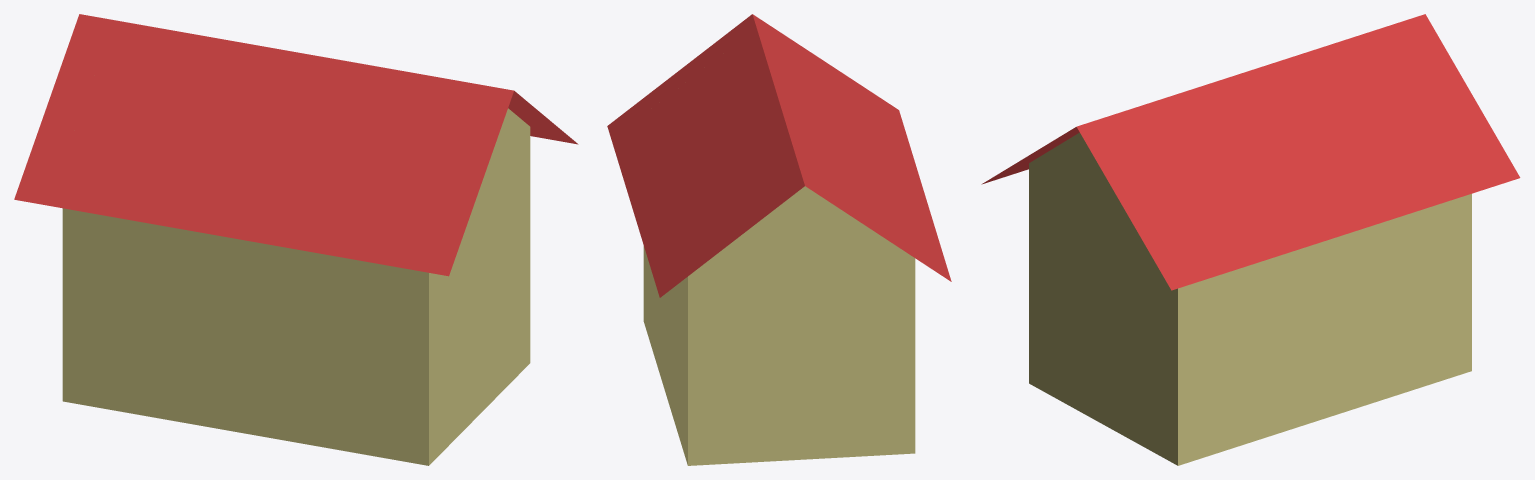
3 renders of one model, left to right at view 1: azimuth 30°, elevation 25°; view 2: azimuth 150°, elevation 25°; view 3: azimuth 270°, elevation 25°, orthographic. The views are drawn at different scales.
Bounding box in the file's own units: 14.88 × 15.55 × 9.77.
